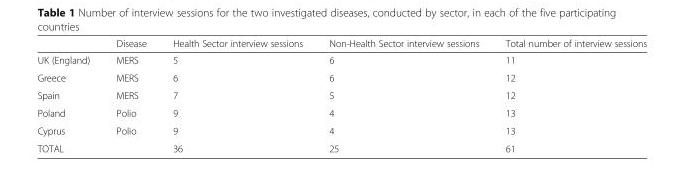table: (36, 37, 646, 153)
table column: (315, 37, 491, 153), (159, 37, 315, 153), (491, 37, 646, 153), (36, 37, 102, 153), (102, 37, 159, 153)
table column header: (36, 37, 646, 51)
table row: (36, 68, 646, 86), (36, 103, 646, 121), (36, 121, 646, 139), (36, 51, 646, 68), (36, 86, 646, 103), (36, 37, 646, 51), (36, 139, 646, 153)
